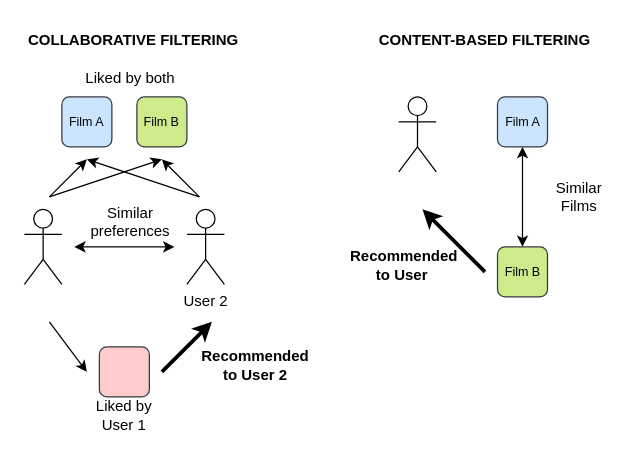
This 631x455 diagram has some shape labels left out. The shapes that lost their labels are listed below. From the top down, each one's centre as x and y in pixels, then its label:
pixel 417 134: User
pixel 42 246: User 1
pixel 123 371: Film C
